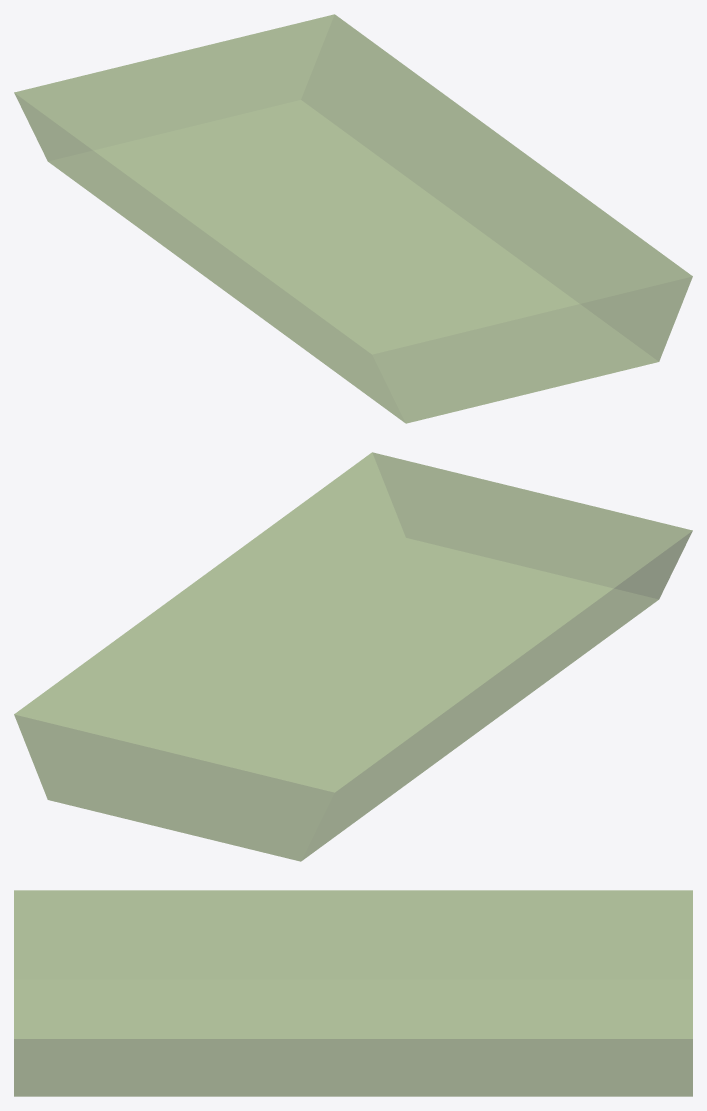
The model's file is bar_counter_2_3_COL.fbx.
3 views of the same model, one above another, from view 1: azimuth 30°, elevation 25°; view 2: azimuth 150°, elevation 25°; view 3: azimuth 270°, elevation 25° (orthographic). The views are drawn at different scales.
Parts seen in each view (by area): view 1: bar_counter_2_3_COL; view 2: bar_counter_2_3_COL; view 3: bar_counter_2_3_COL.
Part boxes in pixels (<box>): bar_counter_2_3_COL: <box>14,14,692,423</box>; bar_counter_2_3_COL: <box>14,452,692,861</box>; bar_counter_2_3_COL: <box>14,890,692,1096</box>.
Bounding box in the file's own units: 103 × 23.81 × 200.
